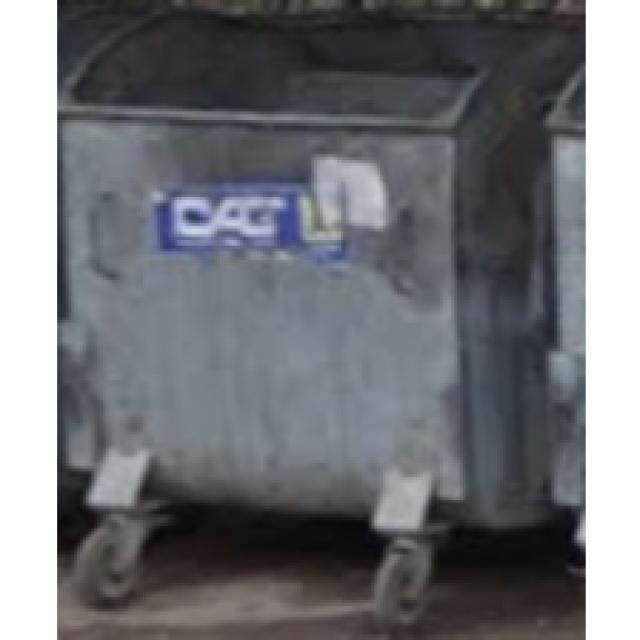general wastetrash bin: (80, 15, 542, 609)
